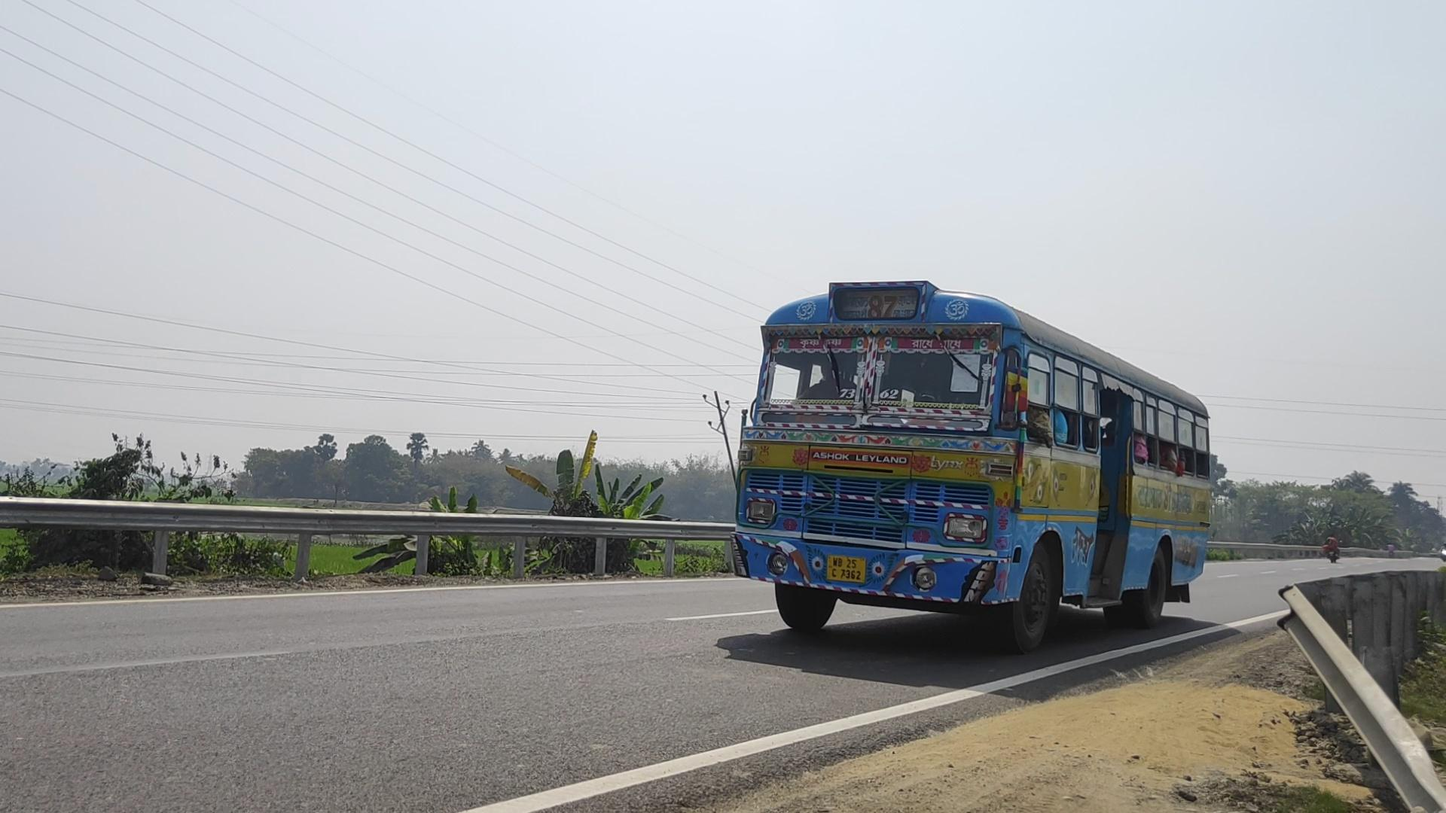Bus: (731, 279, 1212, 657)
